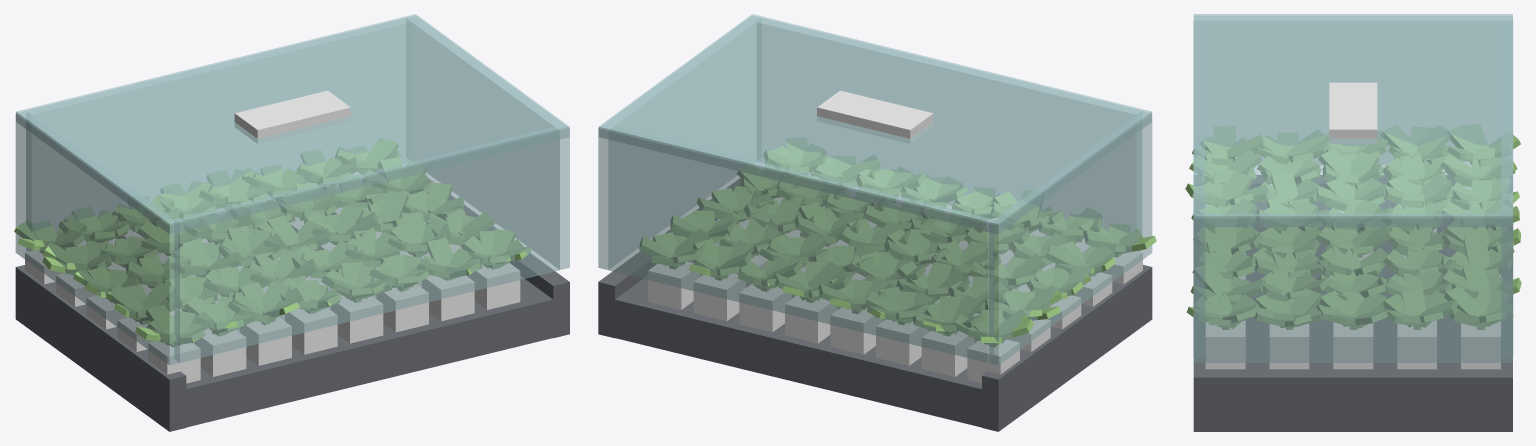
Rendered from vertical-farm-and-hydroponics-tower-vertical-farm-and--2c8cbdc0__38348.glb.
3 renders of one model, left to right at view 1: azimuth 30°, elevation 25°; view 2: azimuth 150°, elevation 25°; view 3: azimuth 270°, elevation 25°, orthographic. The views are drawn at different scales.
Parts seen in each view (by area): view 1: lid-dome/water, vertical-farm-and-hydroponics-tower-seedling-propagation-tra (×3), lid-dome/panel; view 2: lid-dome/water, vertical-farm-and-hydroponics-tower-seedling-propagation-tra (×3), lid-dome/panel; view 3: lid-dome/water, vertical-farm-and-hydroponics-tower-seedling-propagation-tra (×3), lid-dome/panel.
Boxes of the visible parts, box(x1,y1,x2,y2) form: lid-dome/water: box(15, 14, 569, 364); vertical-farm-and-hydroponics-tower-seedling-propagation-tra (×3): box(14, 138, 569, 431); lid-dome/panel: box(234, 90, 350, 143); lid-dome/water: box(598, 14, 1152, 365); vertical-farm-and-hydroponics-tower-seedling-propagation-tra (×3): box(598, 138, 1156, 431); lid-dome/panel: box(817, 90, 933, 143); lid-dome/water: box(1193, 14, 1513, 362); vertical-farm-and-hydroponics-tower-seedling-propagation-tra (×3): box(1185, 124, 1521, 431); lid-dome/panel: box(1329, 82, 1377, 143).
Size of the model in its own units: 0.6228 by 0.3105 by 0.4216.
